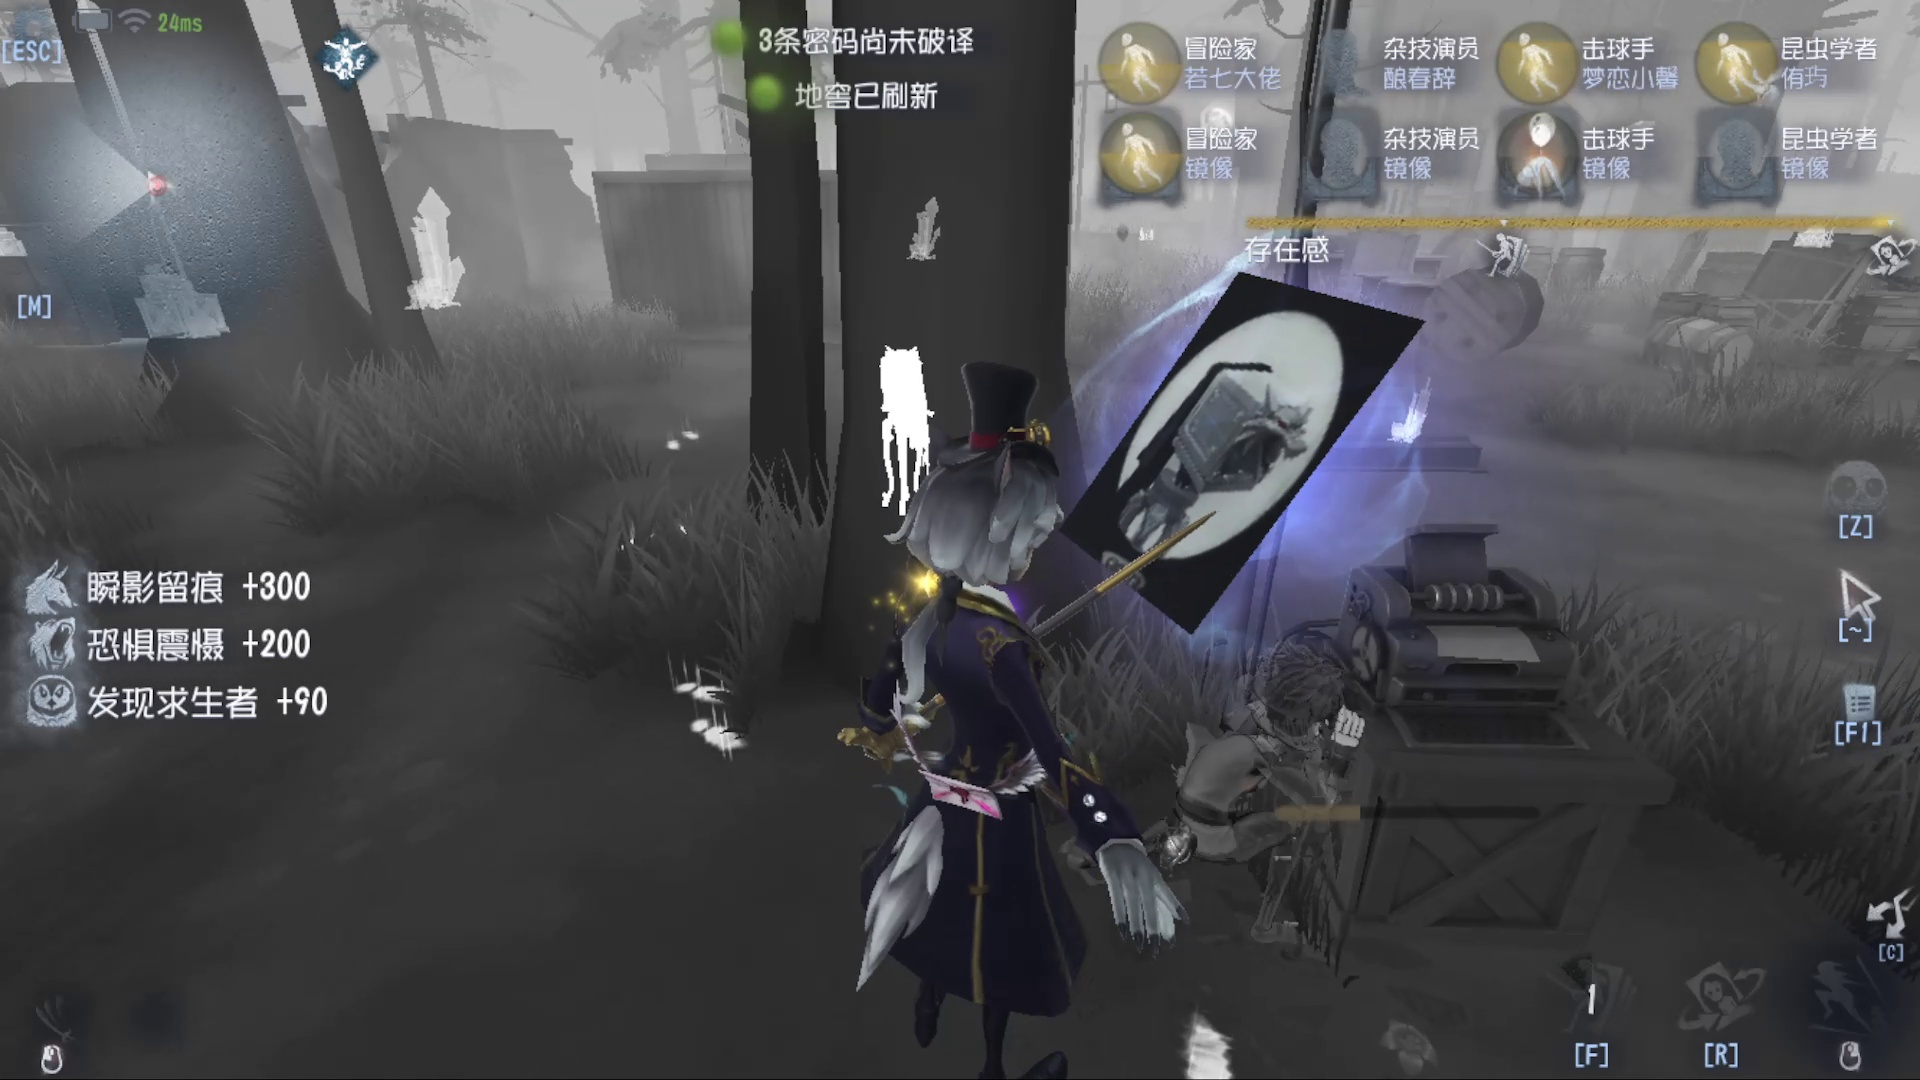狂欢之椅: (402, 179, 522, 328), (906, 189, 968, 277)
